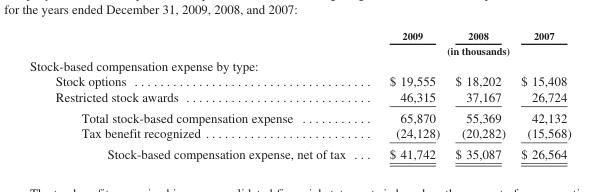table: (28, 29, 570, 160)
table column: (28, 29, 366, 160), (366, 29, 446, 160), (446, 29, 512, 160), (512, 29, 570, 160)
table column header: (28, 29, 570, 57)
table projected row header: (28, 57, 570, 73)
table row: (28, 88, 570, 106), (28, 106, 570, 124), (28, 124, 570, 142), (28, 142, 570, 160), (28, 57, 570, 73), (28, 42, 570, 57), (28, 73, 570, 88), (28, 29, 570, 42)
table spanning cell: (366, 42, 570, 57)
